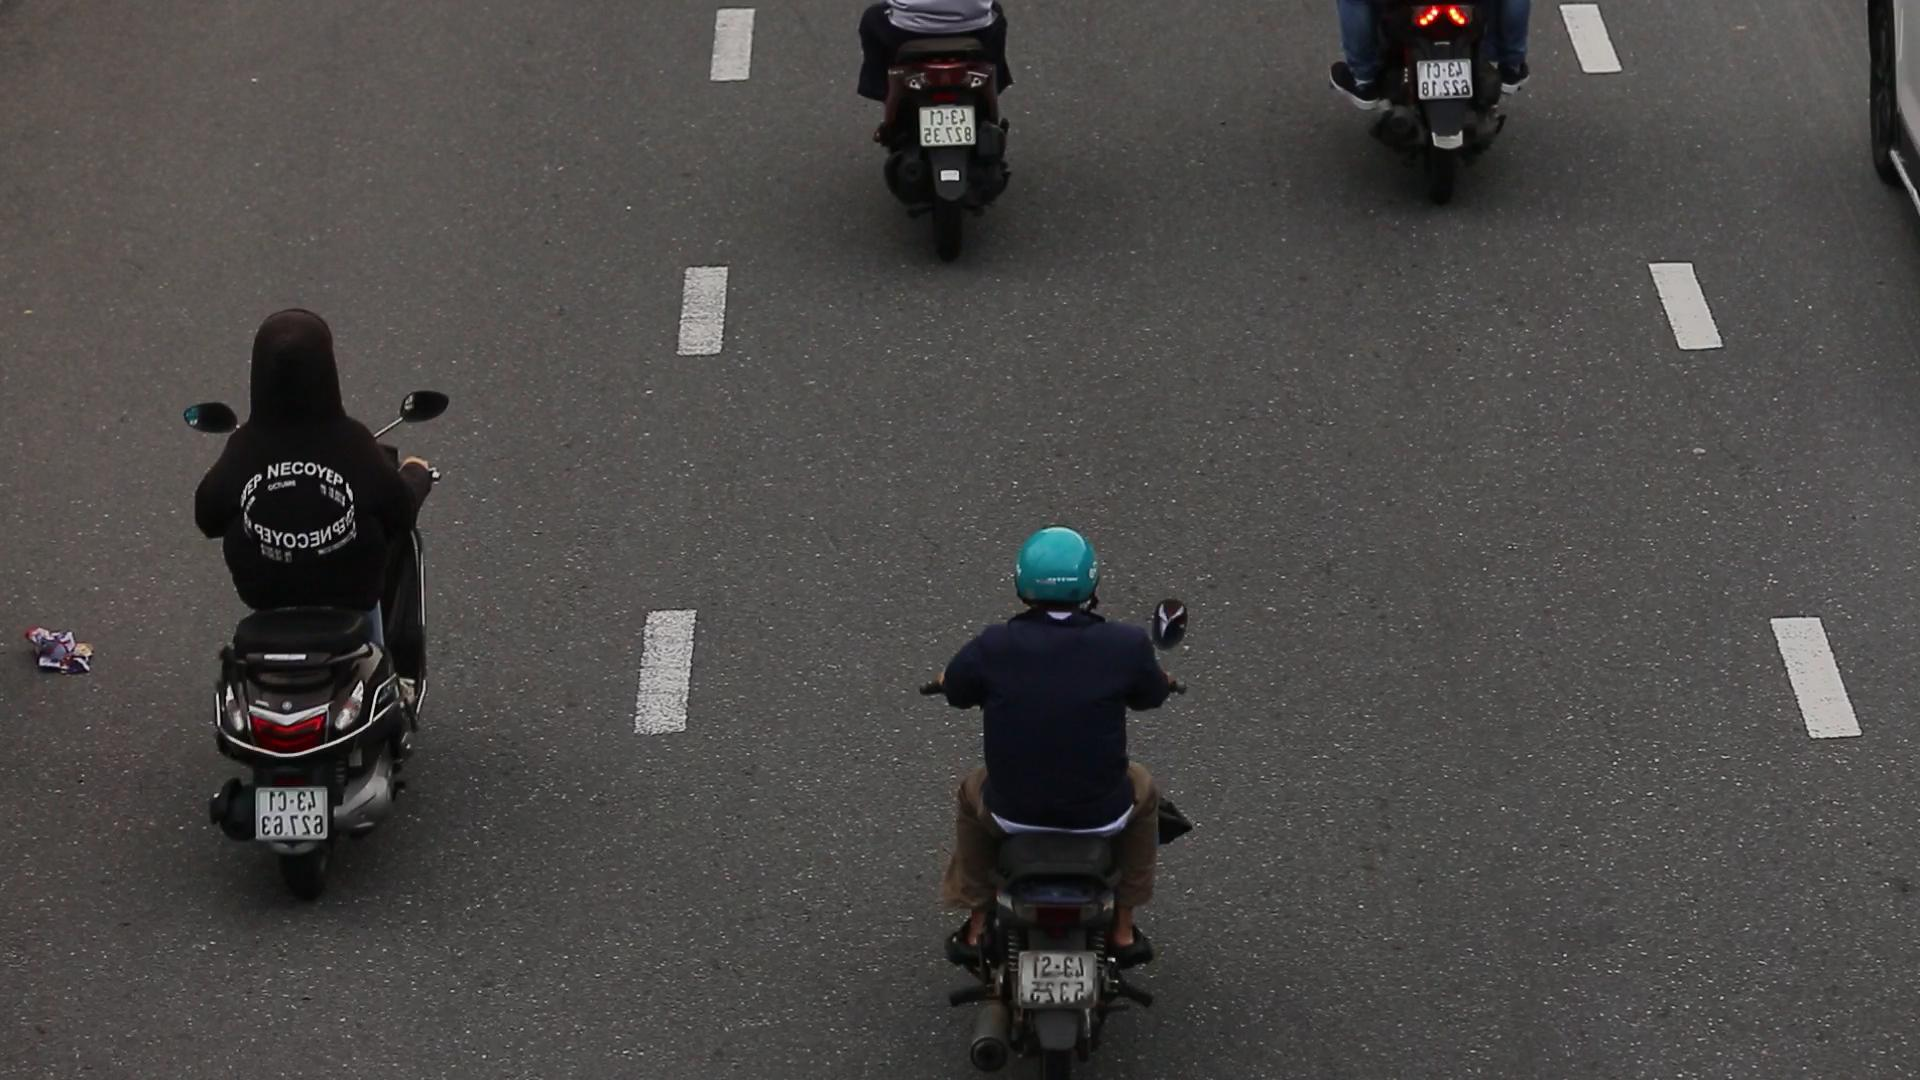motobike: (175, 289, 471, 939), (923, 502, 1207, 1080)
